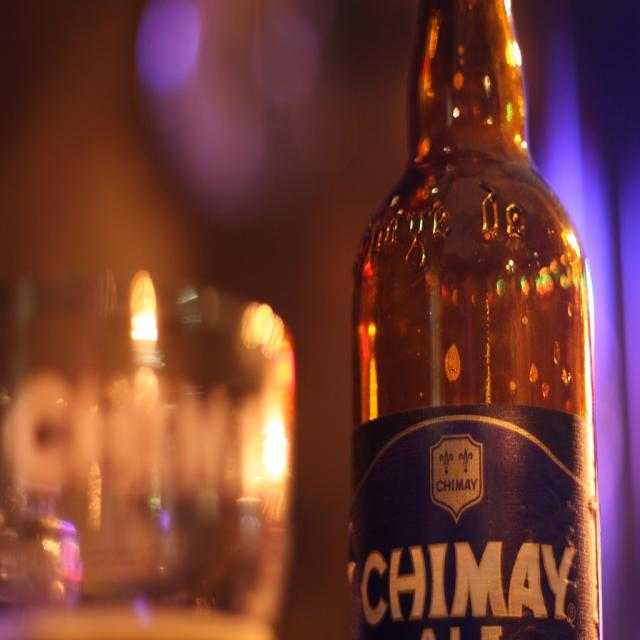chimay: (352, 415, 605, 640)
